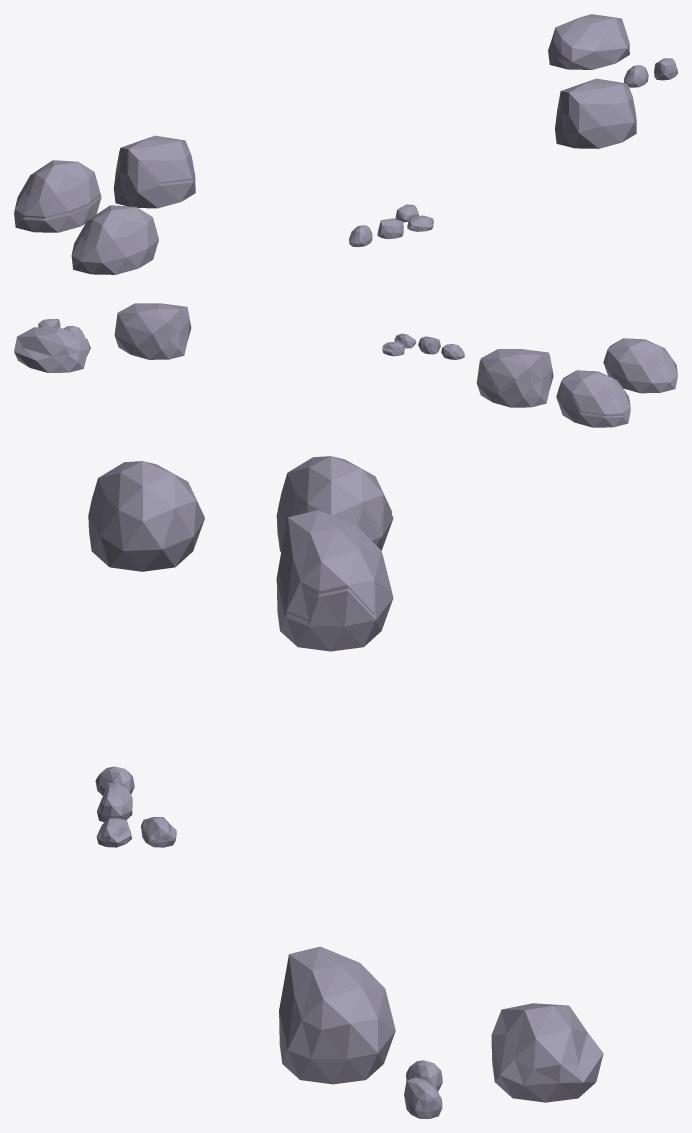
File: Rocks_part.fbx
3 renders of one model, top to bottom at view 1: azimuth 30°, elevation 25°; view 2: azimuth 150°, elevation 25°; view 3: azimuth 270°, elevation 25°, orthographic. The views are drawn at different scales.
Parts seen in each view (by area): view 1: Icosphere.001, Icosphere.012; view 2: Icosphere.001, Icosphere.012; view 3: Icosphere.001, Icosphere.012.
Part boxes in pixels (bbox=[...]): Icosphere.001: bbox=[14, 135, 195, 274]; Icosphere.012: bbox=[349, 14, 677, 247]; Icosphere.001: bbox=[476, 338, 677, 427]; Icosphere.012: bbox=[14, 303, 464, 372]; Icosphere.001: bbox=[88, 456, 393, 651]; Icosphere.012: bbox=[95, 766, 603, 1118].
Bounding box in the file's own units: 2076 × 297 × 821.
